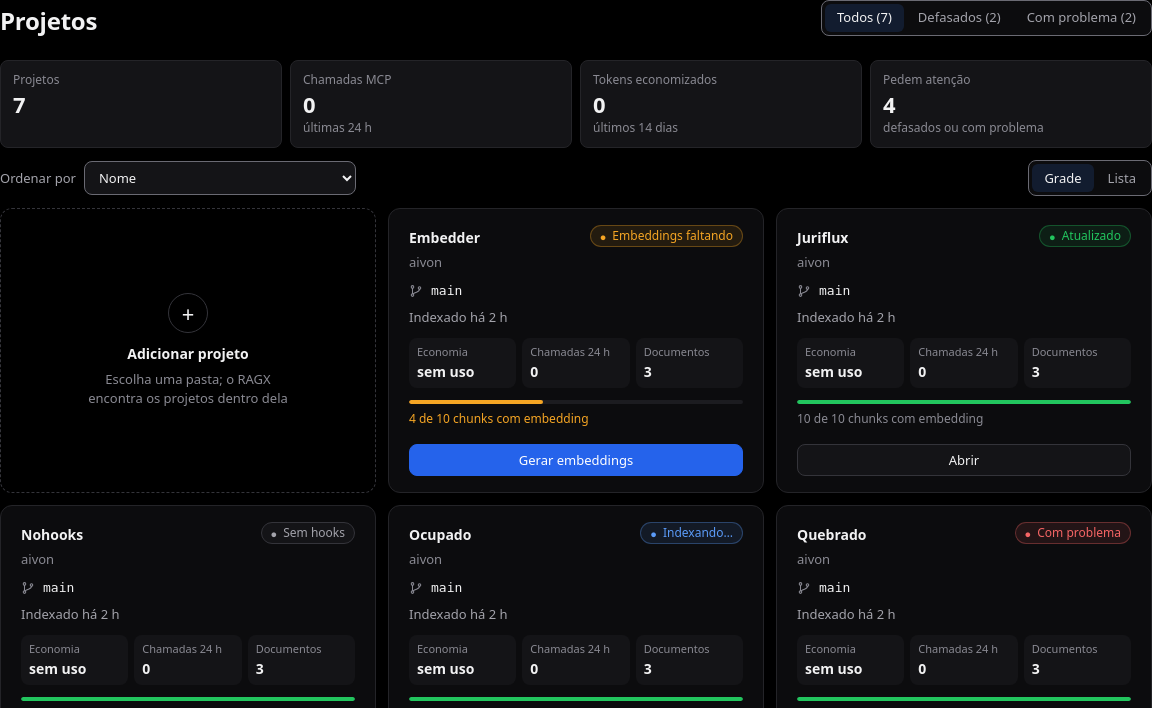
ProjectsPage › filtro segmentado: contadores batem e "Defasados" deixa só defasado e embeddings
The width and height of the screenshot is (1152, 708).
Click the radio button labelled "Defasados (2)" at {"x": 959, "y": 18}, box [906,4,1013,32]
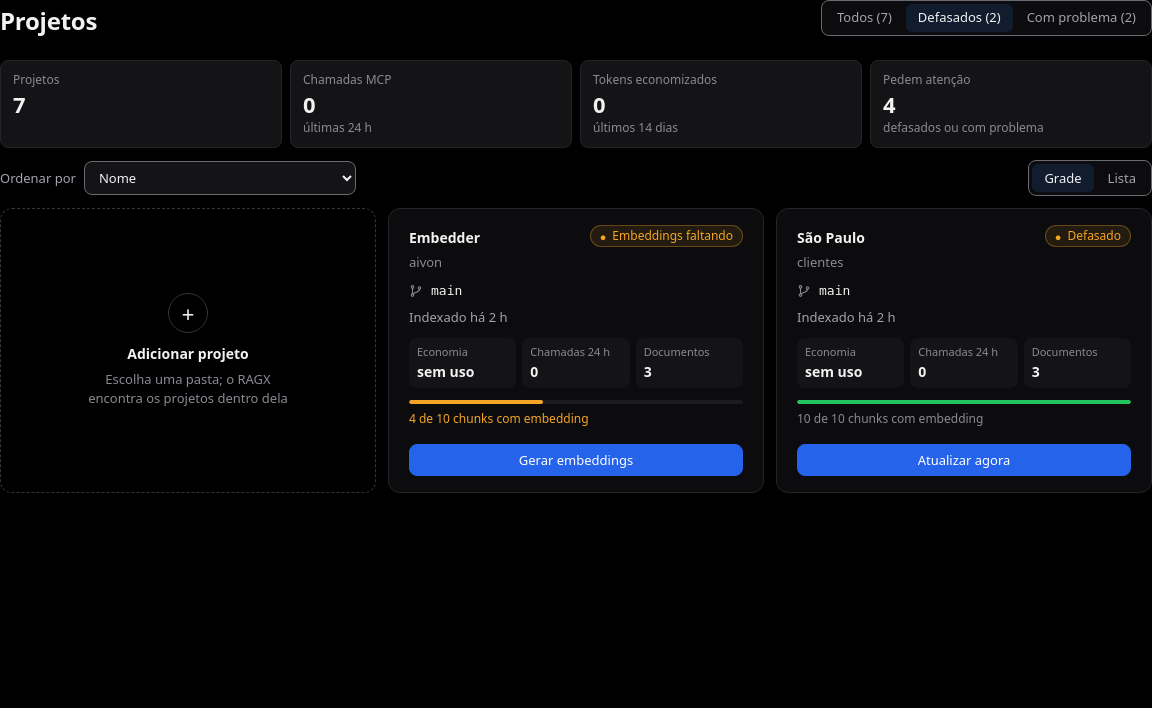
Expected: the element "São Paulo" is shown, [776,208,1151,493]
Result: the radio button labelled "Defasados (2)" is checked at [906,4,1013,32]
Result: the radio button labelled "Todos (7)" is not checked at [825,4,904,32]
Click the radio button labelled "Com problema (2)" at {"x": 1081, "y": 18}, box [1015,4,1148,32]
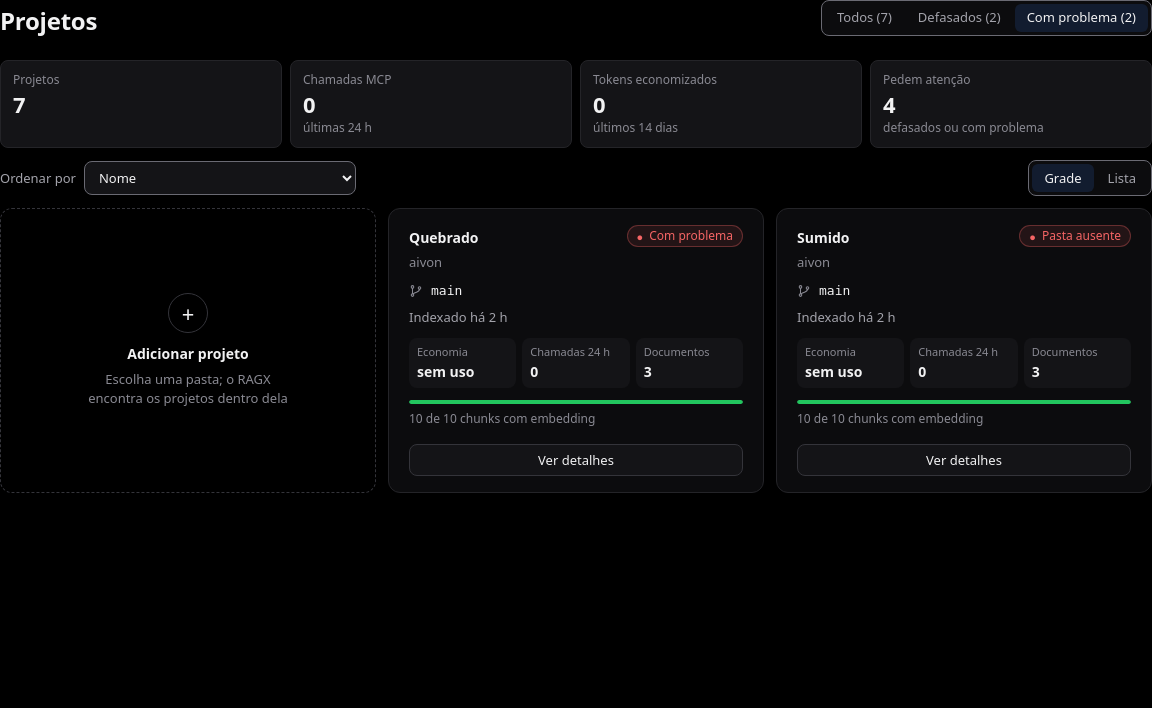
Result: the element "Quebrado" is shown at [388,208,764,493]
Result: the element "Sumido" is shown at [776,208,1151,493]
